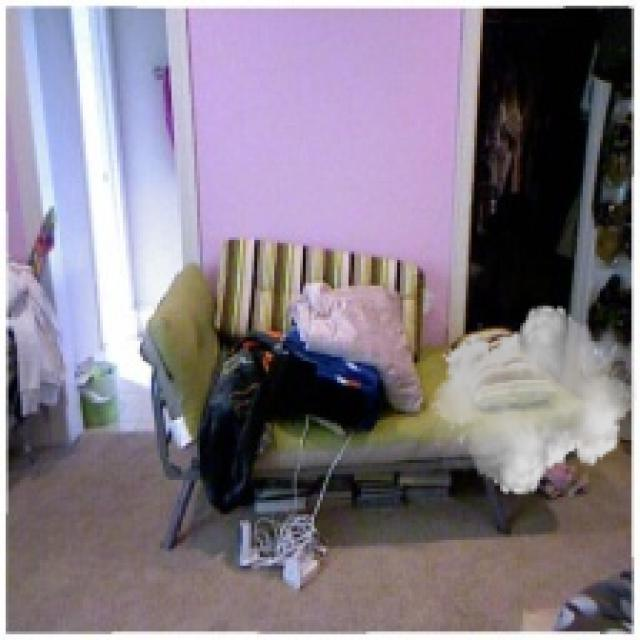smoke: (429, 297, 637, 503)
